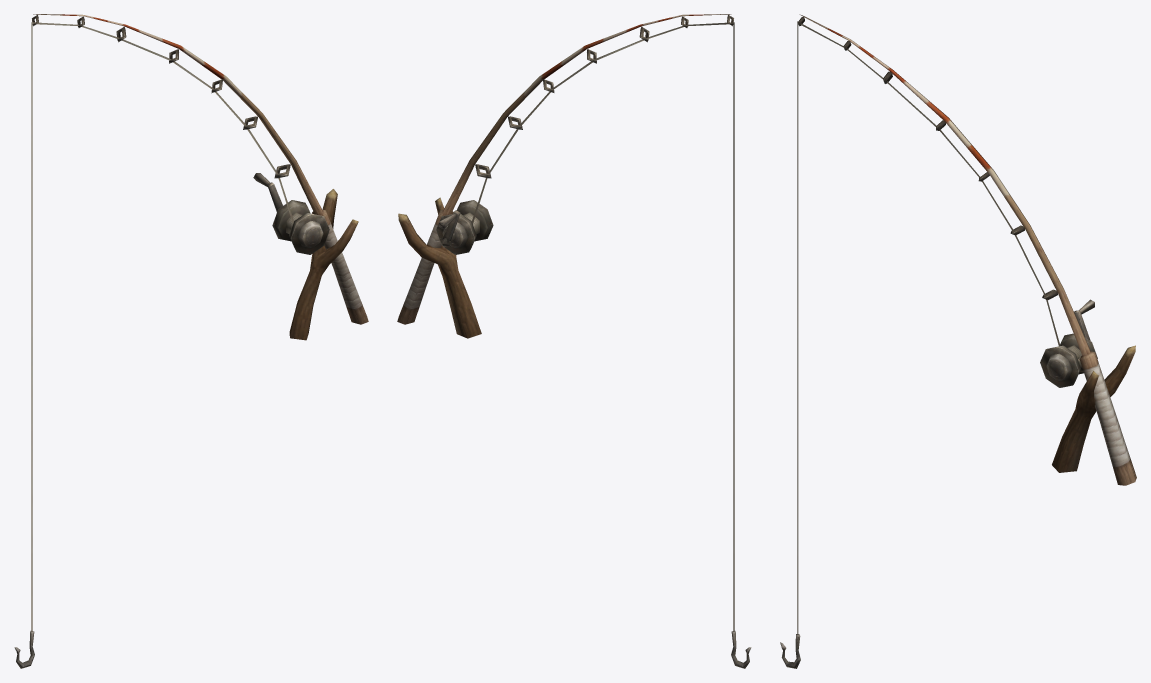
File: scene_lawennushandao_yugan01.FBX
The picture shows the model from 3 angles, left to right: view 1: azimuth 30°, elevation 25°; view 2: azimuth 150°, elevation 25°; view 3: azimuth 330°, elevation 25°; orthographic projection.
Parts seen in each view (by area): view 1: scene_lawennushandao_yugan01; view 2: scene_lawennushandao_yugan01; view 3: scene_lawennushandao_yugan01.
Boxes of the visible parts, left/top/right/bottom form: scene_lawennushandao_yugan01: left=14, top=14, right=368, bottom=668; scene_lawennushandao_yugan01: left=397, top=14, right=751, bottom=668; scene_lawennushandao_yugan01: left=780, top=14, right=1136, bottom=668.
Bounding box in the file's own units: 331 × 584 × 80.42.
